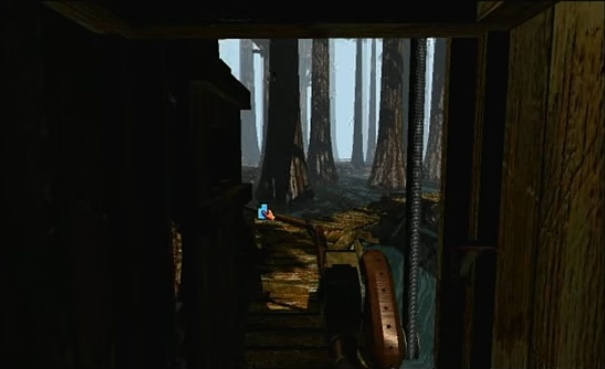Keep: (251, 199, 279, 223)
